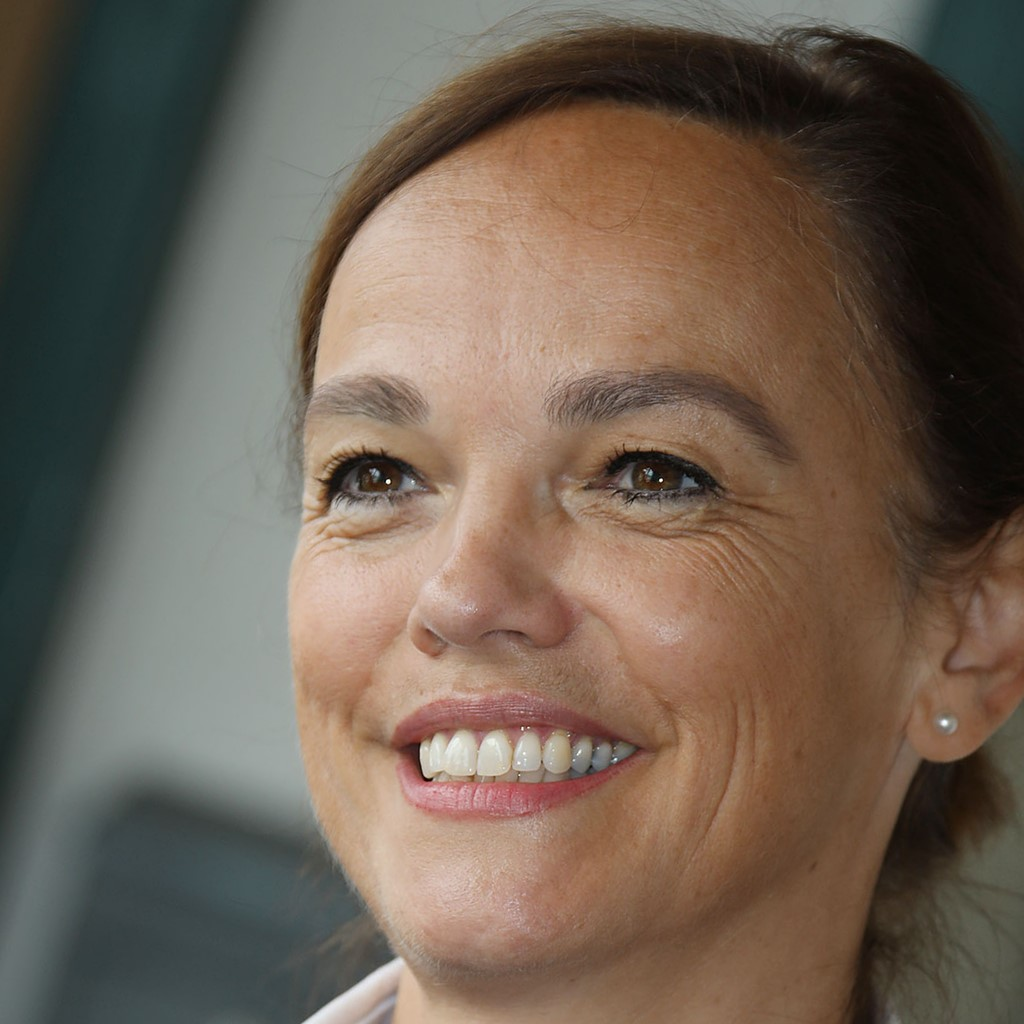sin_mascara: (285, 154, 905, 948)
